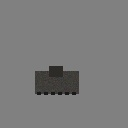armoured_vehicle: (35, 71, 79, 94)
